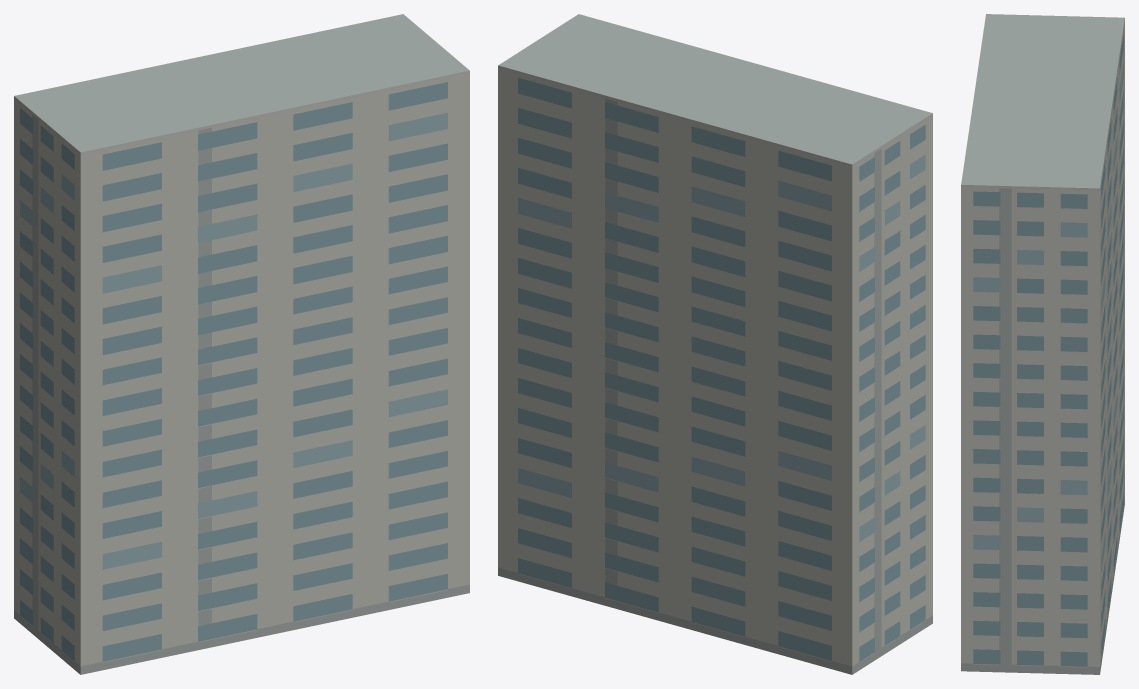
File: residential-b00cf323-05b7-47f1-b7f7-37578b790d27.glb
3 renders of one model, left to right at view 1: azimuth 30°, elevation 25°; view 2: azimuth 150°, elevation 25°; view 3: azimuth 270°, elevation 25°, orthographic. The views are drawn at different scales.
Visible parts, largest first — view 1: residential-b00cf323-05b7-47f1-b7f7-37578b790d27.tmp; view 2: residential-b00cf323-05b7-47f1-b7f7-37578b790d27.tmp; view 3: residential-b00cf323-05b7-47f1-b7f7-37578b790d27.tmp.
Boxes of the visible parts, left/top/right/bottom form: residential-b00cf323-05b7-47f1-b7f7-37578b790d27.tmp: left=14, top=14, right=469, bottom=674; residential-b00cf323-05b7-47f1-b7f7-37578b790d27.tmp: left=498, top=14, right=932, bottom=674; residential-b00cf323-05b7-47f1-b7f7-37578b790d27.tmp: left=961, top=14, right=1124, bottom=674.
Bounding box in the file's own units: 35.38 × 46 × 14.05.
